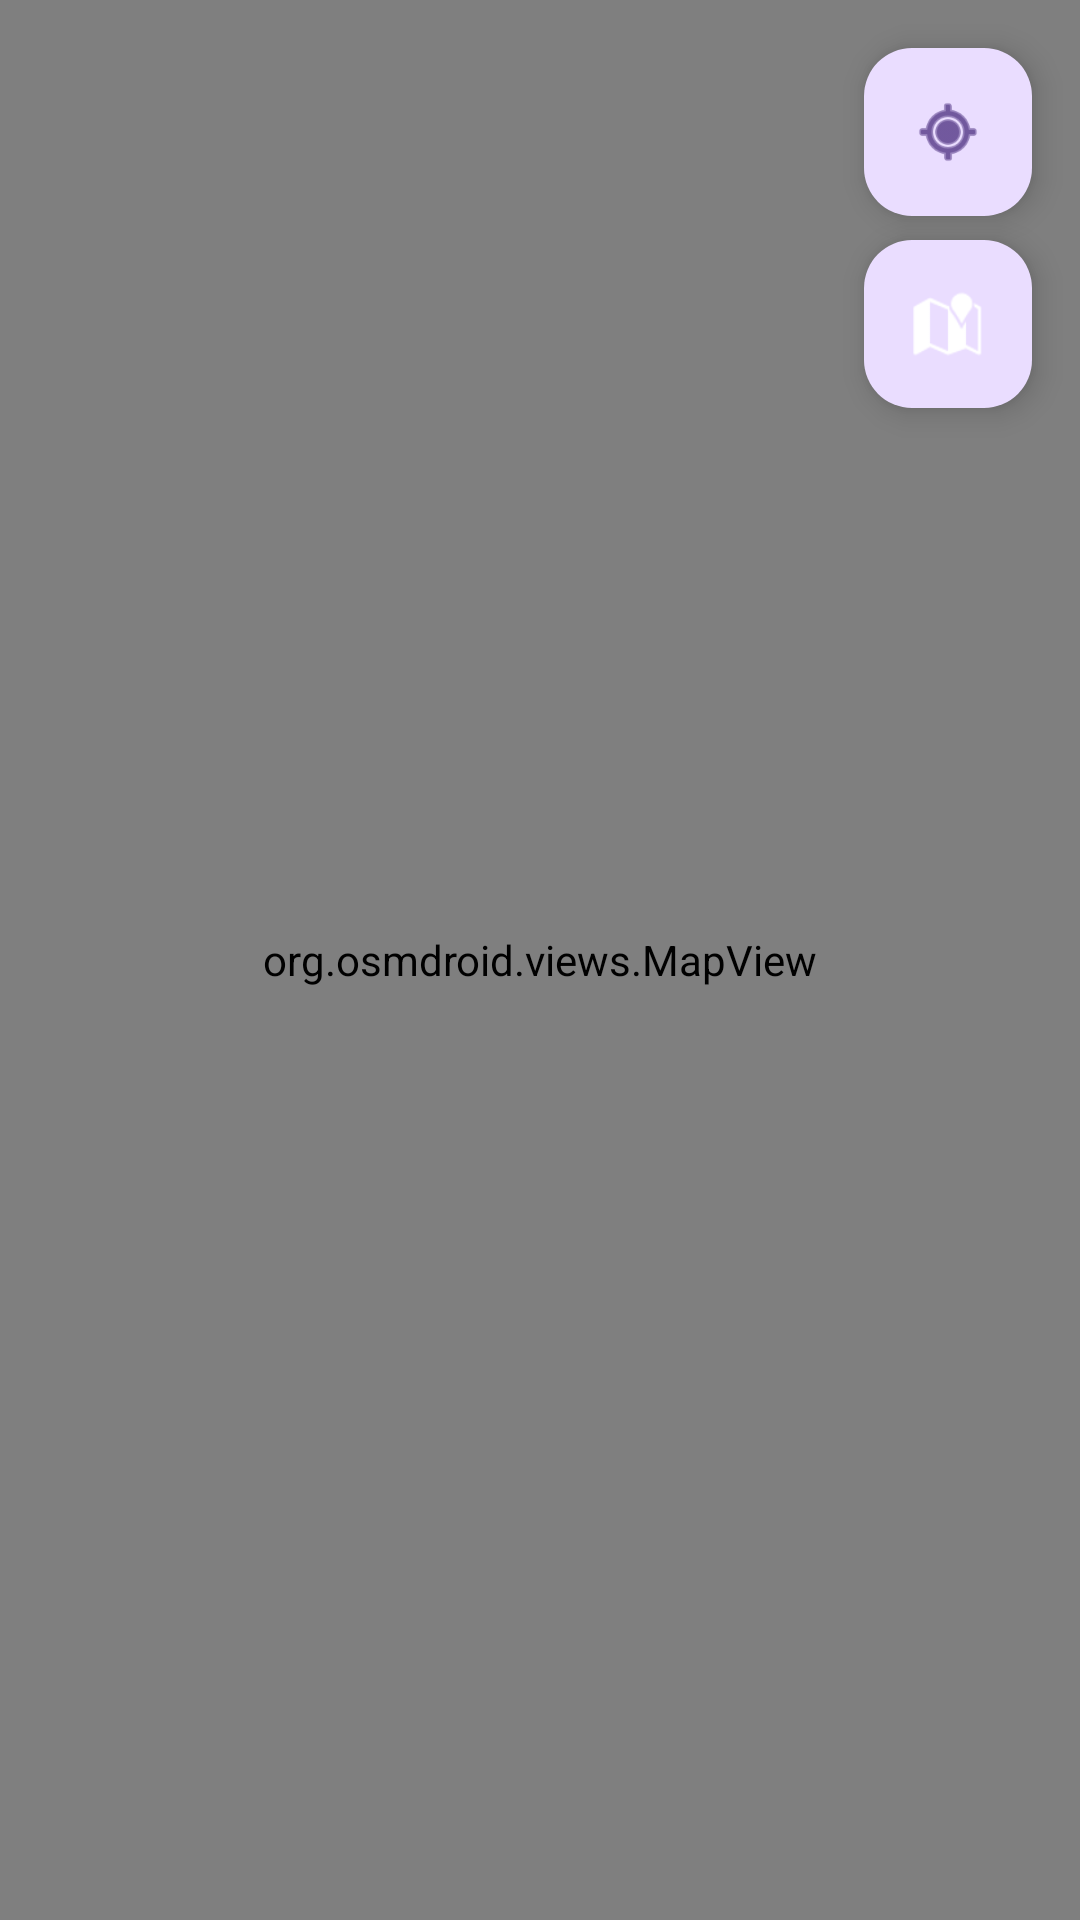

Named icons in this screenshot (1080 x 1920) and their centers, [x,y]:
My Location: [948,132]
Open in OpenStreetMap: [948,324]
